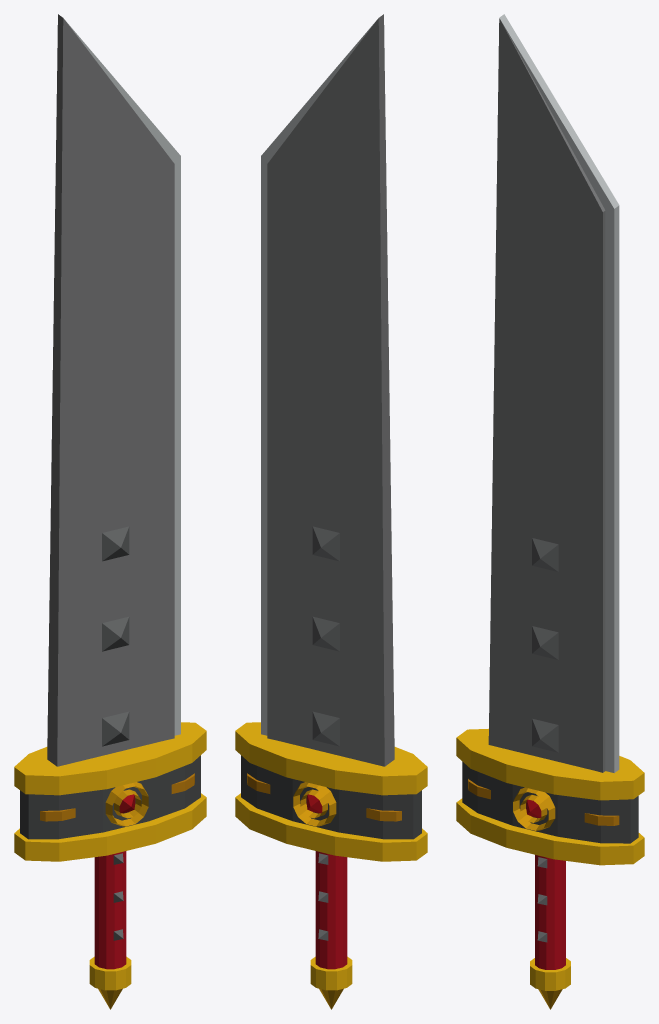
File: PSX STYLE RETRO BUSTER BLADE SWORD.obj
3 views of the same model, side by side, from view 1: azimuth 30°, elevation 25°; view 2: azimuth 150°, elevation 25°; view 3: azimuth 330°, elevation 25° (orthographic). The views are drawn at different scales.
Visible parts, largest first — view 1: cuboid, cylinder, pyramid, torus; view 2: cuboid, cylinder, pyramid, torus; view 3: cuboid, cylinder, pyramid, torus.
Boxes of the visible parts, <box> form: cuboid: <box>47,14,180,766</box>; cylinder: <box>14,722,206,990</box>; pyramid: <box>102,526,135,940</box>; torus: <box>105,782,148,826</box>; cuboid: <box>261,14,394,766</box>; cylinder: <box>235,722,427,990</box>; pyramid: <box>306,526,339,940</box>; torus: <box>293,782,336,826</box>; cuboid: <box>488,14,619,772</box>; cylinder: <box>456,728,644,990</box>; pyramid: <box>526,538,558,942</box>; torus: <box>513,787,555,830</box>.
Bounding box in the file's own units: 0.25 × 1.32 × 0.1.
1 material, 1 textured.
